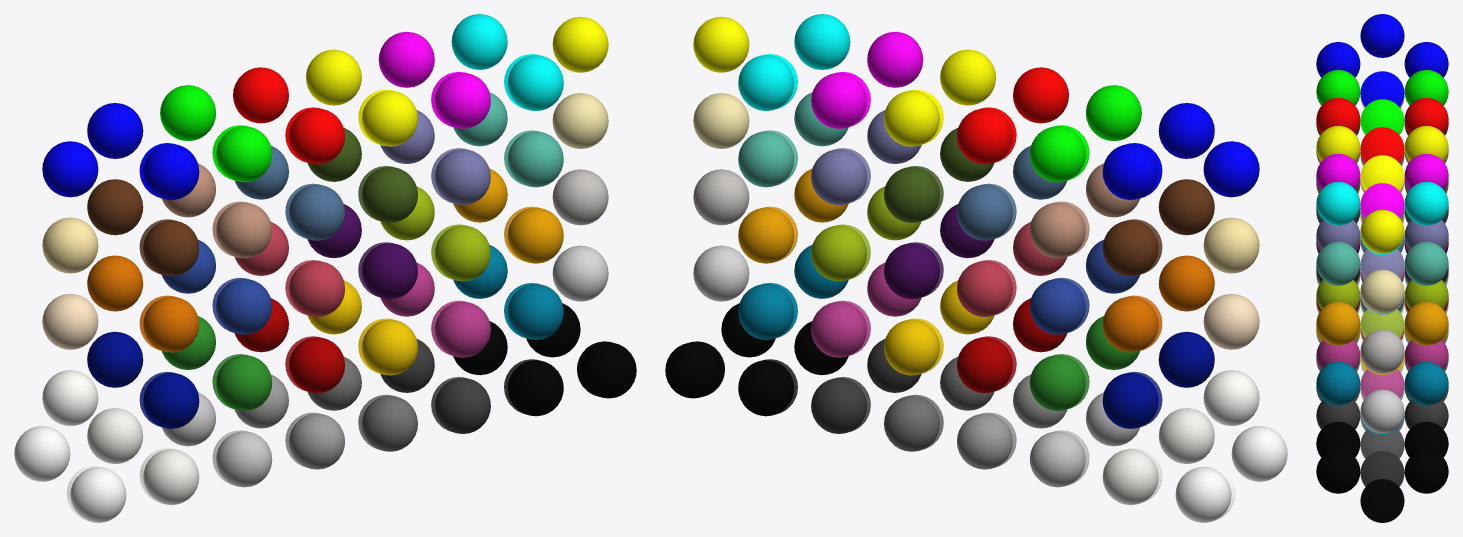
Rendered from MacbethBalls.glb.
3 renders of one model, left to right at view 1: azimuth 30°, elevation 25°; view 2: azimuth 150°, elevation 25°; view 3: azimuth 270°, elevation 25°, orthographic. The views are drawn at different scales.
Visible parts, largest first — view 1: wrapper; view 2: wrapper; view 3: wrapper.
Boxes of the visible parts, box(x1,y1,x2,y2) form: wrapper: box(14, 14, 636, 522); wrapper: box(665, 14, 1287, 522); wrapper: box(1316, 14, 1448, 522).
Bounding box in the file's own units: 0.48 × 0.3 × 0.12.
